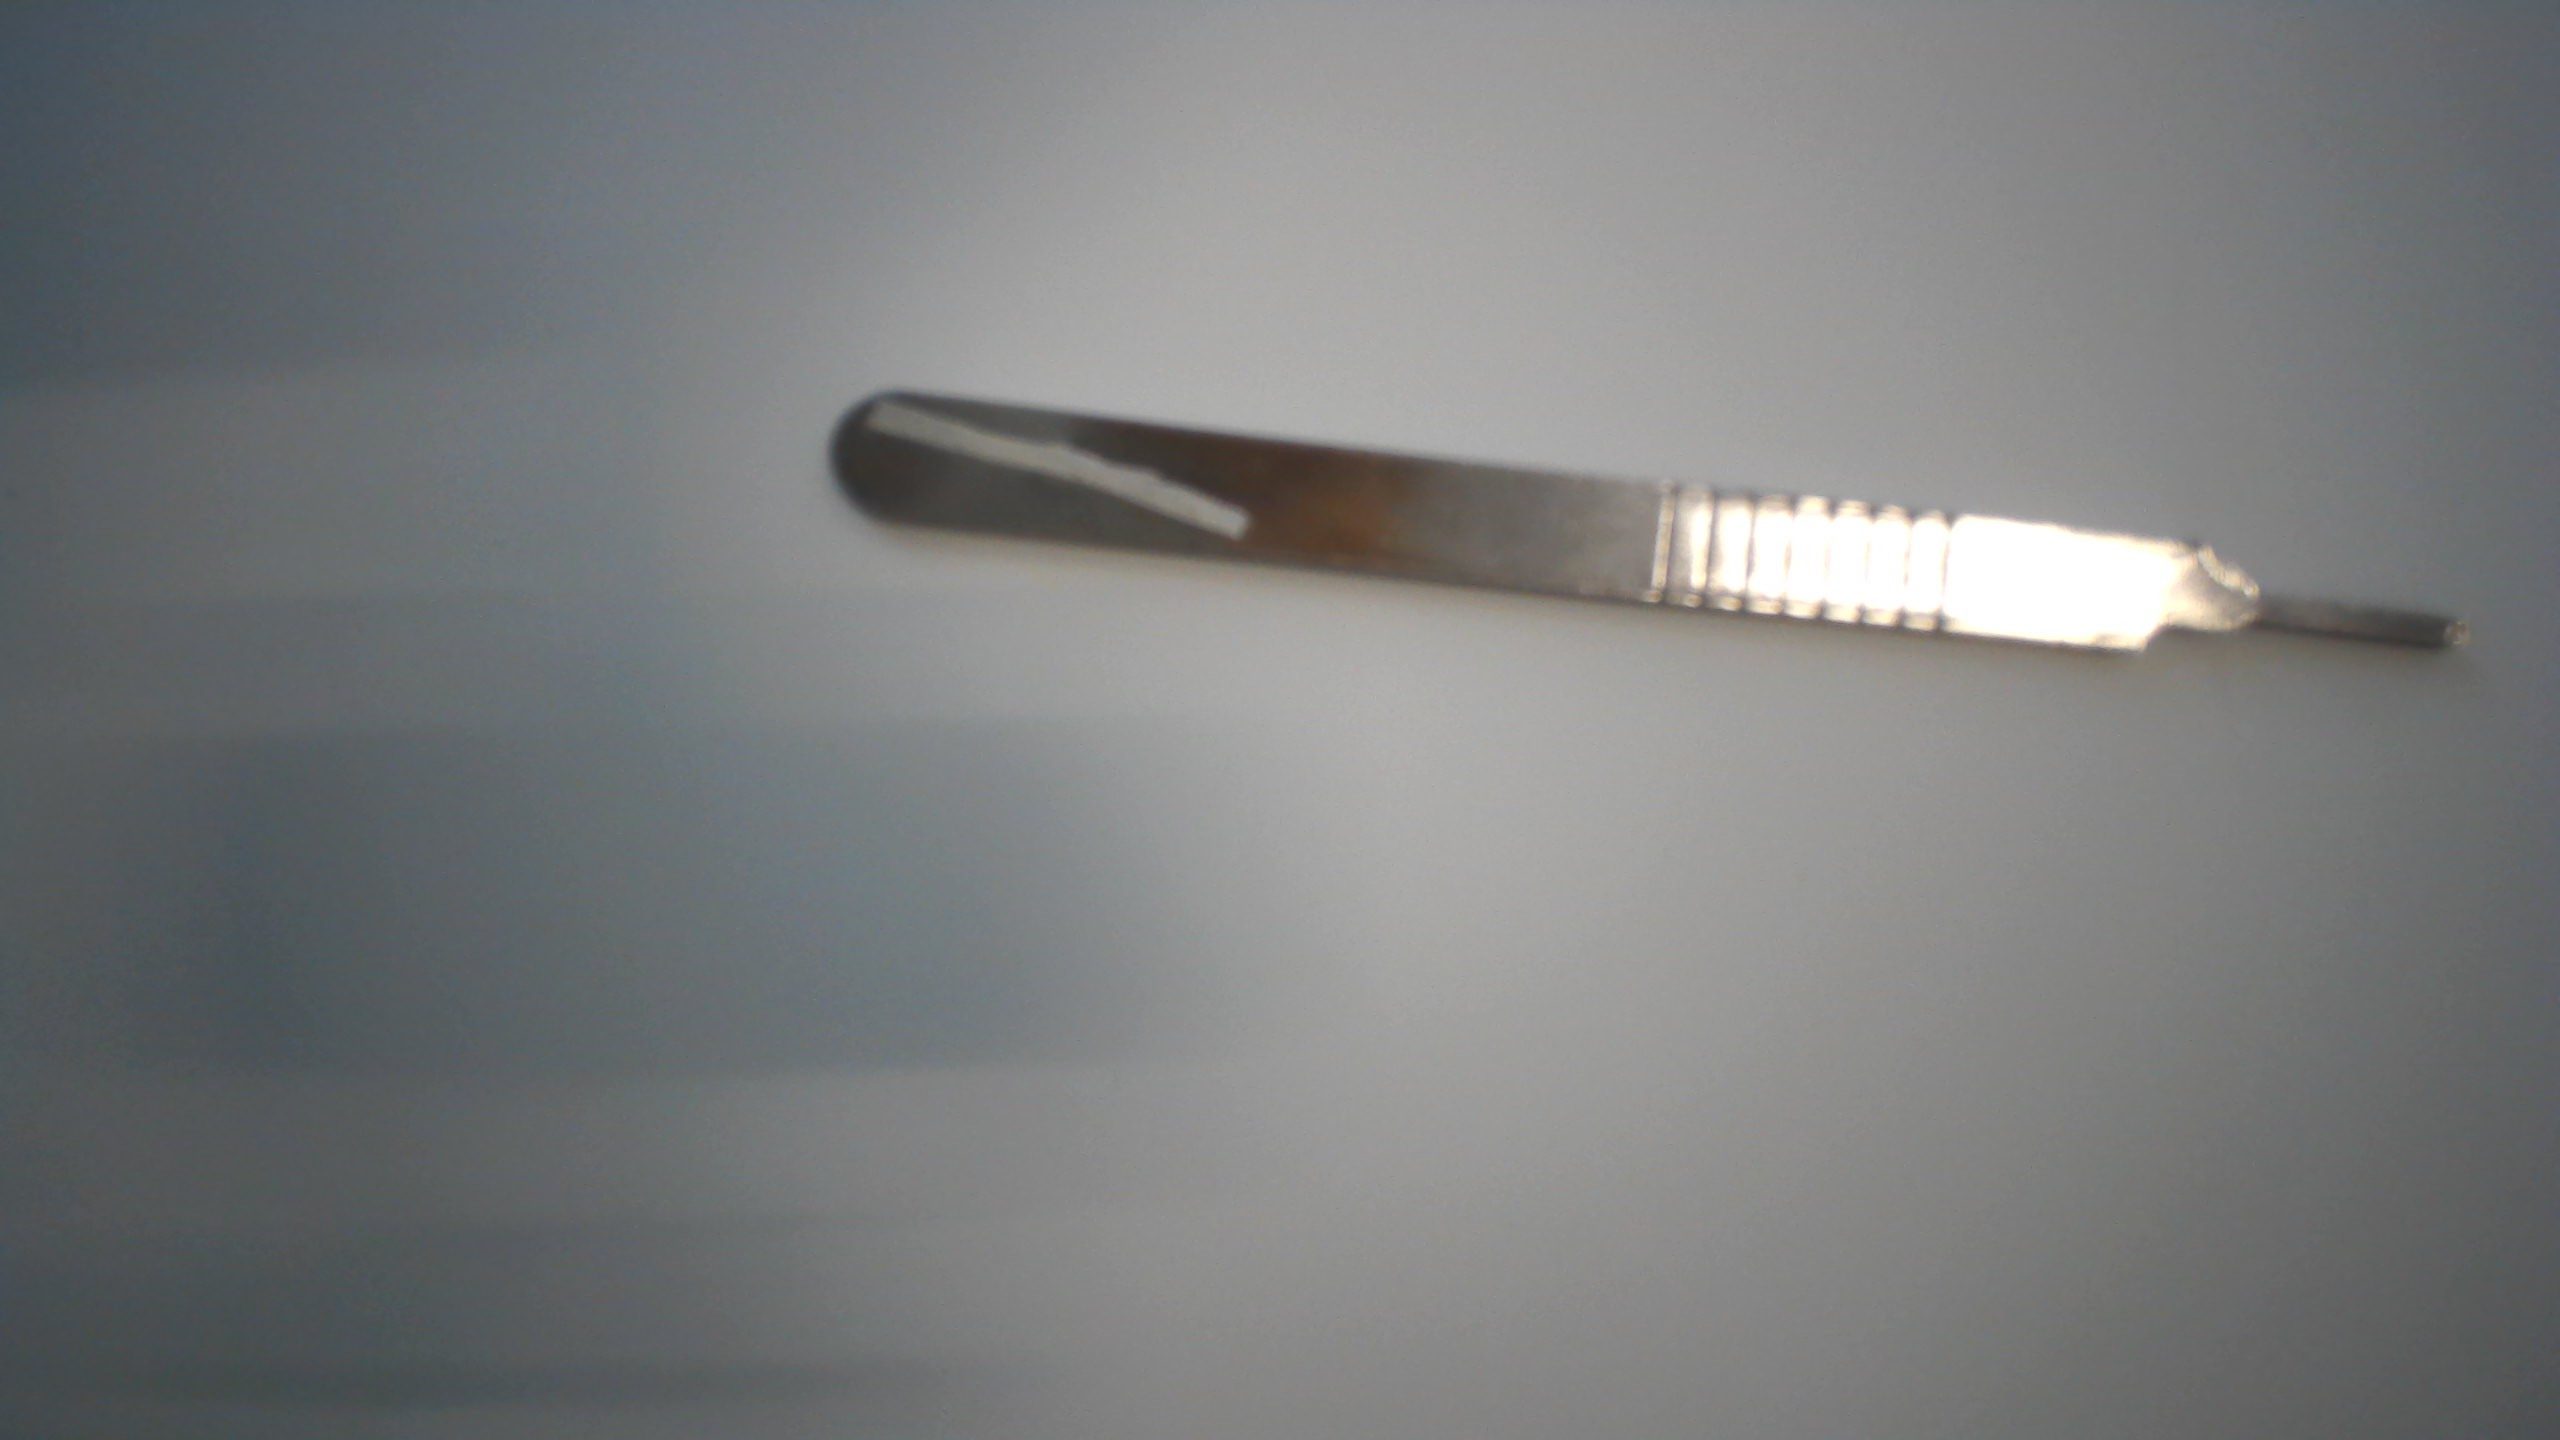Scratches: (851, 383, 1257, 552)
